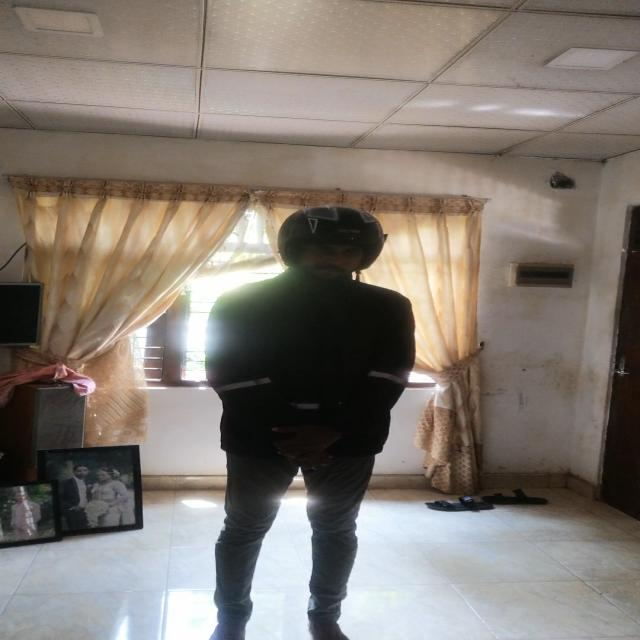Helmet_Wearer: (252, 201, 387, 293)
Jacket_Wearer: (209, 274, 434, 469)
Person: (205, 212, 426, 640)
